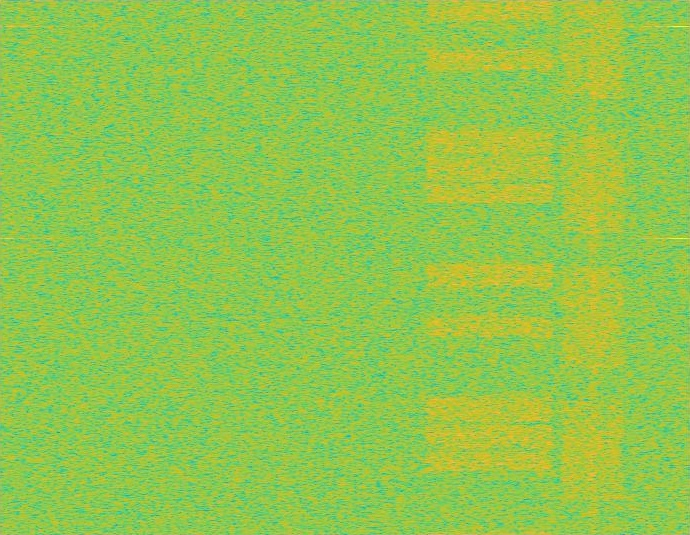5G: (559, 0, 628, 534)
DSSS: (589, 0, 598, 534)
LTE: (421, 0, 559, 534)
Radar: (673, 0, 686, 534)
